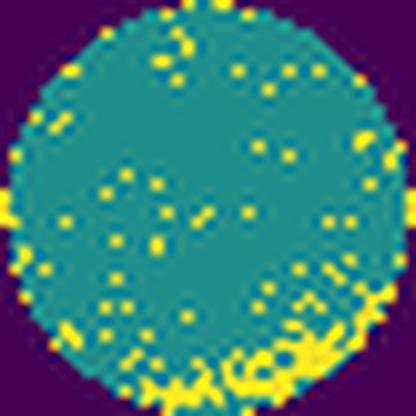Edge-Loc: (220, 276, 400, 416), (133, 352, 227, 414)
